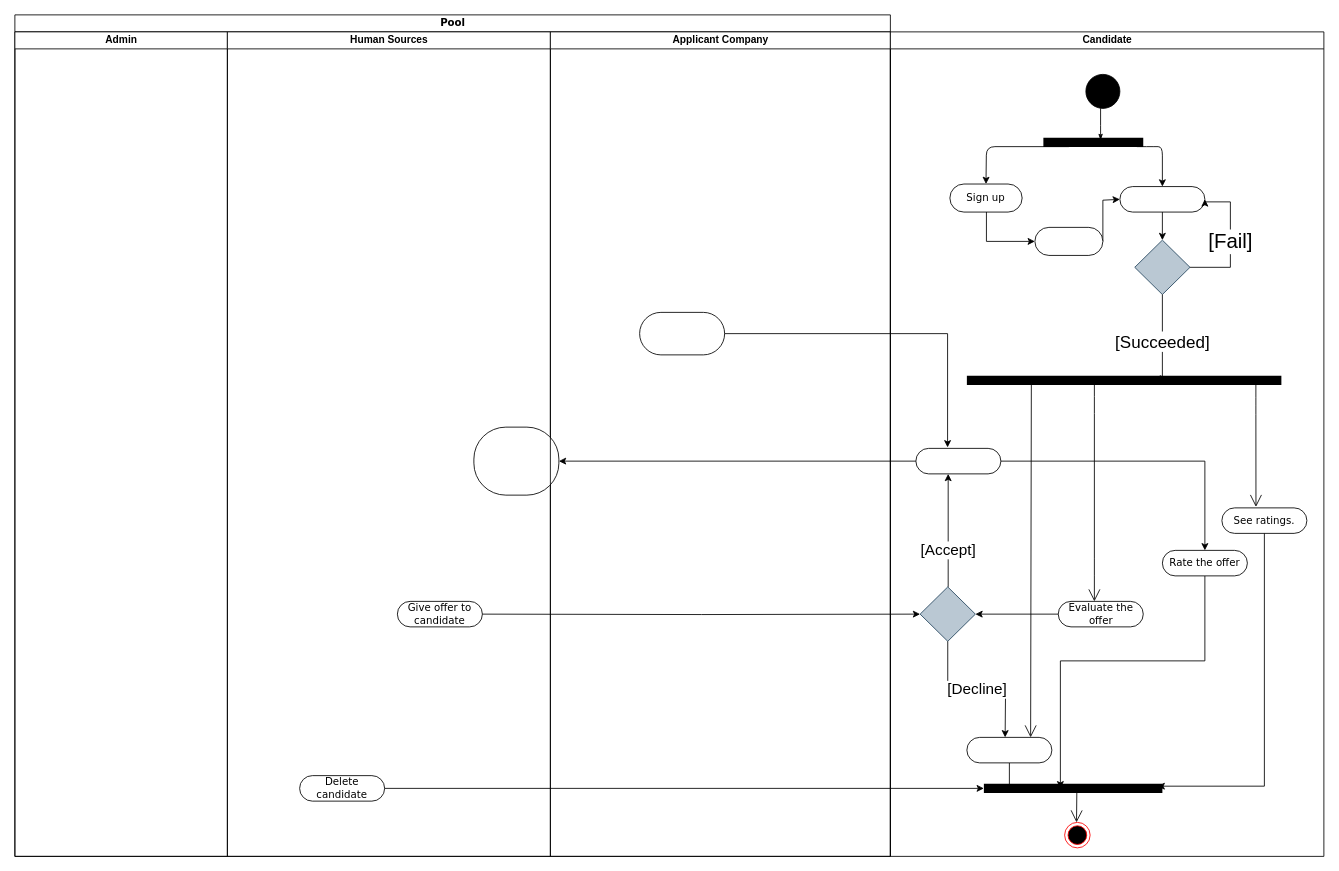
This 1339x871 diagram has some shape labels left out. Each missing label, with the centre of its shape:
"Apply to Advertisement" goes at (958,461).
"Arrange meeting between candidate and company" goes at (516,460).
"Give information" goes at (1068,241).
"Login" goes at (1162,199).
"Rate candidate" goes at (682,333).
"Set status to open to work." goes at (1009,750).
